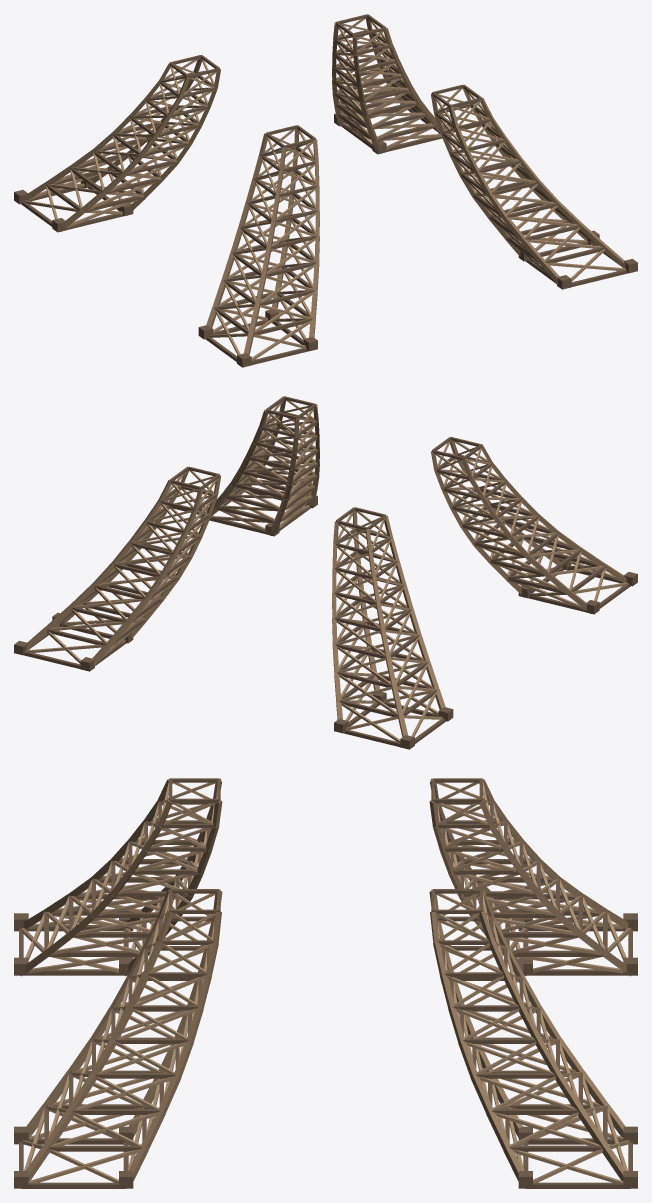
Rendered from 02_legs_lower.glb.
The picture shows the model from 3 angles, top to bottom: view 1: azimuth 30°, elevation 25°; view 2: azimuth 150°, elevation 25°; view 3: azimuth 270°, elevation 25°; orthographic projection. The views are drawn at different scales.
Visible parts, largest first — view 1: legs_lower_ironlight, legs_lower_irondark, legs_lower_iron; view 2: legs_lower_ironlight, legs_lower_irondark, legs_lower_iron; view 3: legs_lower_ironlight, legs_lower_irondark, legs_lower_iron.
Boxes of the visible parts, bbox=[...] form: legs_lower_ironlight: bbox=[23, 18, 626, 360]; legs_lower_irondark: bbox=[14, 14, 637, 367]; legs_lower_iron: bbox=[25, 14, 625, 354]; legs_lower_ironlight: bbox=[25, 400, 628, 742]; legs_lower_irondark: bbox=[14, 396, 637, 749]; legs_lower_iron: bbox=[26, 396, 626, 736]; legs_lower_ironlight: bbox=[21, 782, 630, 1183]; legs_lower_irondark: bbox=[14, 778, 637, 1188]; legs_lower_iron: bbox=[21, 778, 630, 1181].
Bounding box in the file's own units: 155 × 58.72 × 155.
